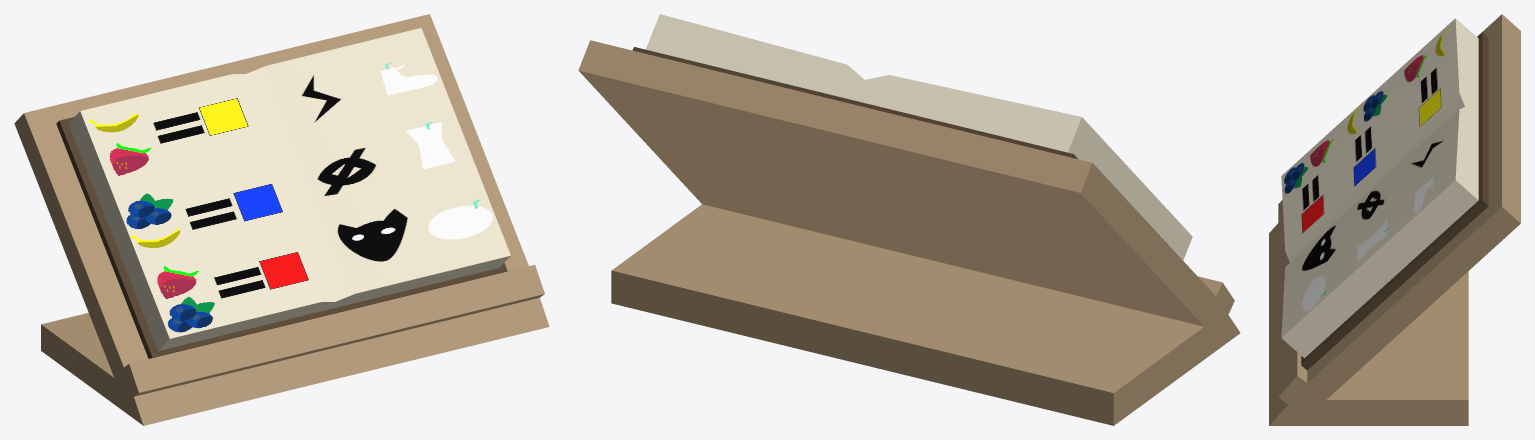
The model's file is Fixed_Recipie_Book.fbx.
The picture shows the model from 3 angles, left to right: view 1: azimuth 30°, elevation 25°; view 2: azimuth 150°, elevation 25°; view 3: azimuth 270°, elevation 25°; orthographic projection. The views are drawn at different scales.
Visible parts, largest first — view 1: RecipeBook; view 2: RecipeBook; view 3: RecipeBook.
Part boxes in pixels (bbox=[...]): RecipeBook: bbox=[14, 14, 549, 425]; RecipeBook: bbox=[578, 14, 1240, 425]; RecipeBook: bbox=[1269, 14, 1520, 425].
Size of the model in its own units: 16 by 8.92 by 8.83.
Materials: 1 (1 with a texture image).
